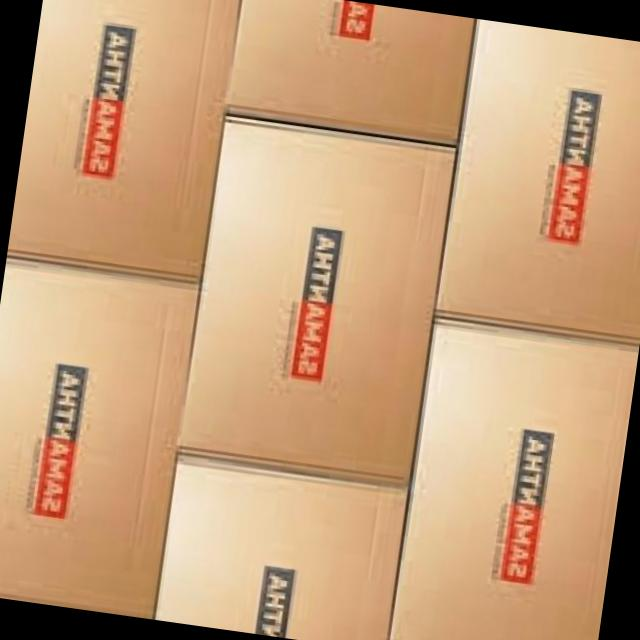cardboard paper: (182, 122, 453, 479), (392, 324, 639, 640), (0, 264, 196, 620), (6, 0, 240, 278), (439, 19, 640, 338), (156, 459, 406, 640), (228, 0, 474, 143)
